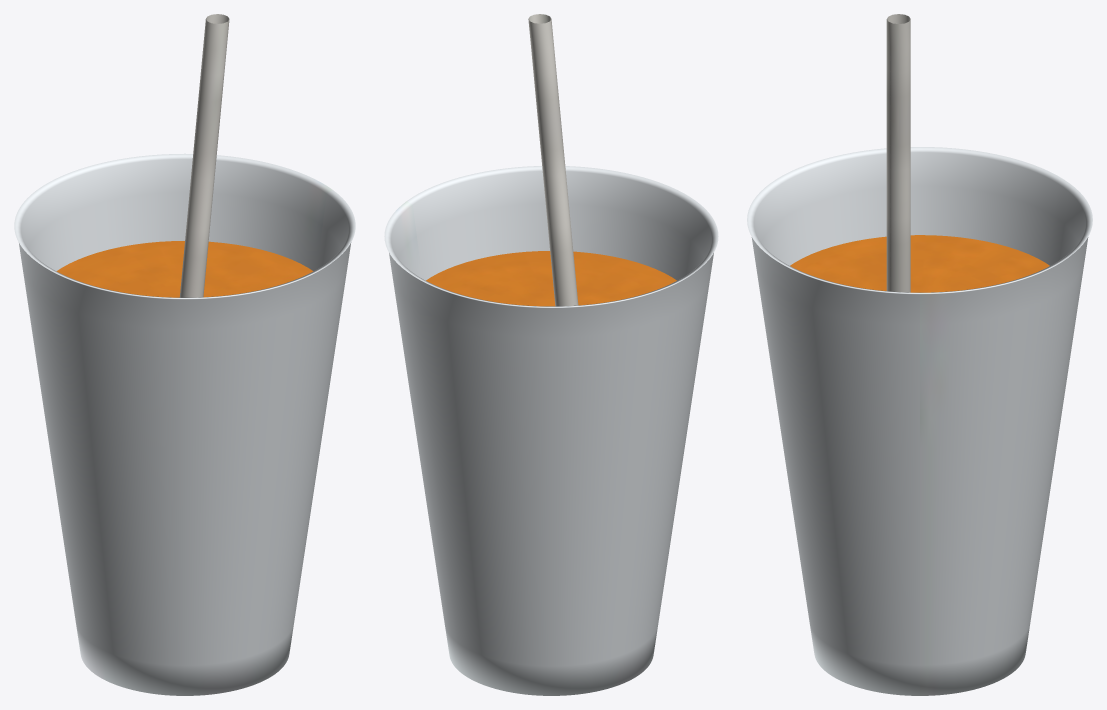
File: ironside-sunset.glb
3 renders of one model, left to right at view 1: azimuth 30°, elevation 25°; view 2: azimuth 150°, elevation 25°; view 3: azimuth 270°, elevation 25°, orthographic. The views are drawn at different scales.
Parts seen in each view (by area): view 1: clear, gloss, satin; view 2: clear, gloss, satin; view 3: clear, gloss, satin.
Part boxes in pixels (x1,y1,x2,y2): clear: [14, 153, 355, 695]; gloss: [56, 241, 313, 297]; satin: [179, 14, 229, 297]; clear: [384, 166, 718, 695]; gloss: [426, 251, 676, 306]; satin: [528, 14, 578, 306]; clear: [747, 147, 1092, 695]; gloss: [790, 235, 1049, 292]; satin: [886, 14, 910, 292].
Bounding box in the file's own units: 0.098 × 0.201 × 0.098.
3 materials, 3 textured.
